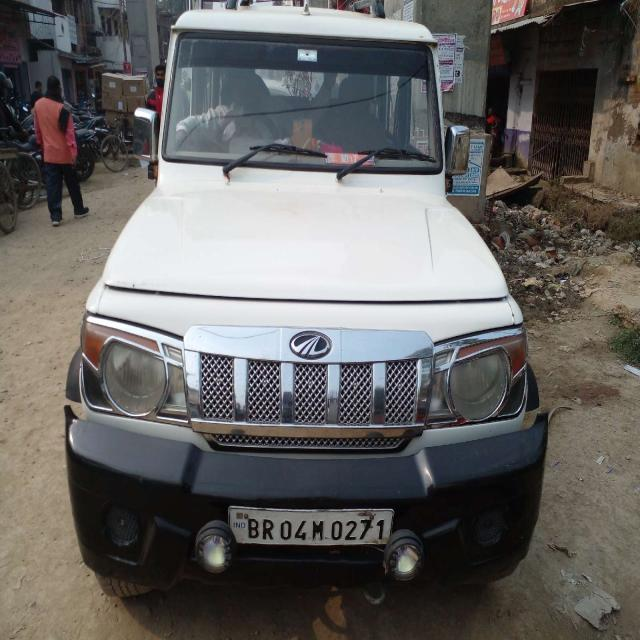light_vehicle: (66, 21, 530, 589)
